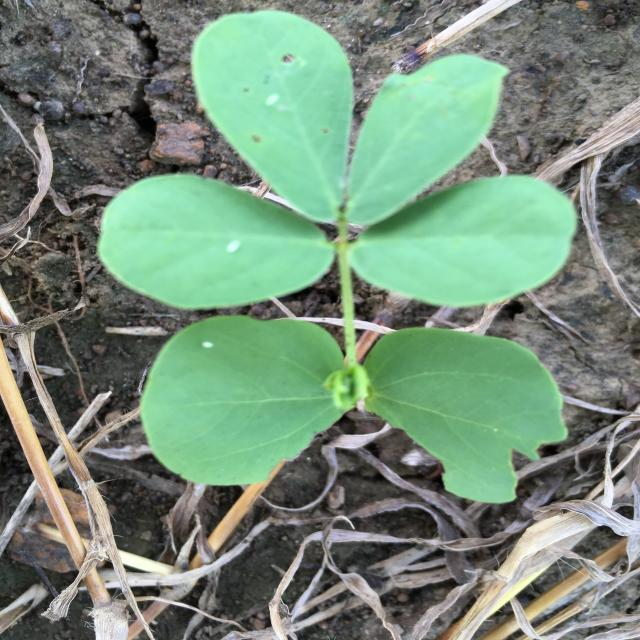Sicklepod: (97, 10, 578, 504)
